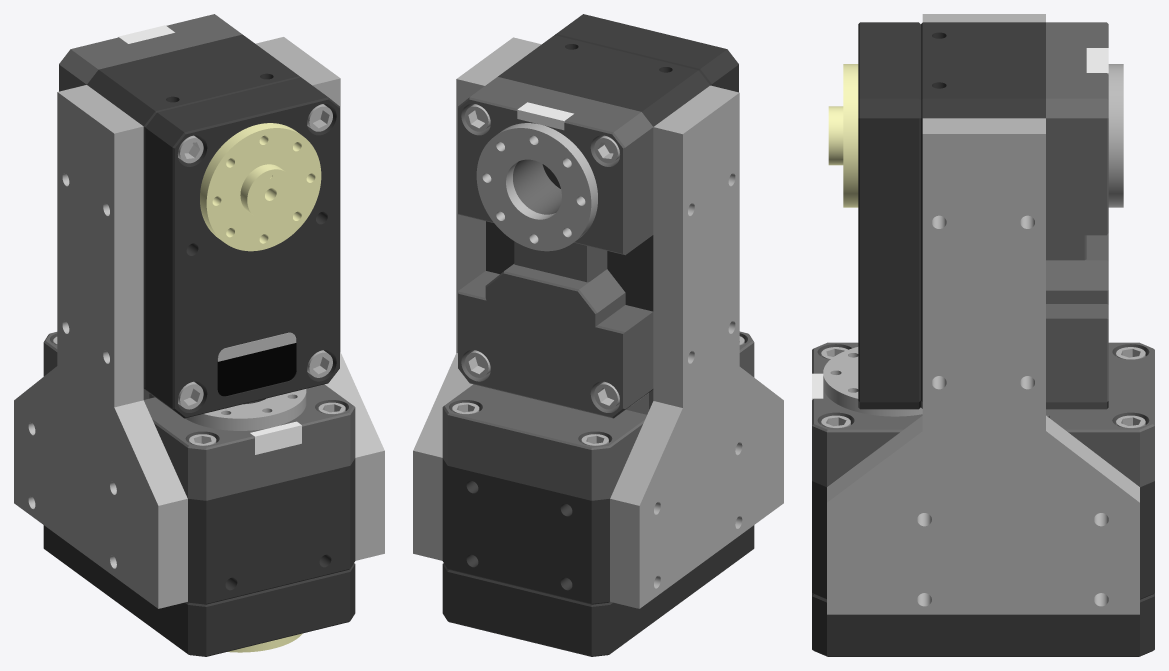
The model's file is ArmTopR.obj.
The picture shows the model from 3 angles, left to right: view 1: azimuth 30°, elevation 25°; view 2: azimuth 150°, elevation 25°; view 3: azimuth 270°, elevation 25°; orthographic projection. The views are drawn at different scales.
Visible parts, largest first — view 1: Solid1:33, Solid1:3, Solid1:31, Solid1:19, Solid1:21, Solid1, Solid1:15, Solid1:32, Solid1:5, Solid1:1, Solid1:30, Solid1:20 (+5 smaller); view 2: Solid1:33, Solid1:5, Solid1:31, Solid1:21, Solid1:15, Solid1:19, Solid1:14, Solid1:32, Solid1:3, Solid1:4, Solid1:11, Solid1:10 (+2 smaller); view 3: Solid1:32, Solid1:3, Solid1:5, Solid1:19, Solid1:21, Solid1:15, Solid1:31, Solid1, Solid1:14, Solid1:30, Solid1:33, Solid1:4.
Part boxes in pixels (<box>): Solid1:33: <box>14,85,187,608</box>; Solid1:3: <box>145,77,339,418</box>; Solid1:31: <box>188,458,355,604</box>; Solid1:19: <box>43,525,355,656</box>; Solid1:21: <box>43,332,355,500</box>; Solid1: <box>200,123,321,251</box>; Solid1:15: <box>87,34,300,395</box>; Solid1:32: <box>255,37,384,560</box>; Solid1:5: <box>59,14,242,91</box>; Solid1:1: <box>217,343,296,396</box>; Solid1:30: <box>185,389,306,430</box>; Solid1:20: <box>250,421,301,454</box>; Solid1:33: <box>610,85,783,608</box>; Solid1:5: <box>458,76,653,418</box>; Solid1:31: <box>442,458,609,604</box>; Solid1:21: <box>442,331,754,500</box>; Solid1:15: <box>486,35,709,394</box>; Solid1:19: <box>442,525,754,656</box>; Solid1:14: <box>476,123,597,251</box>; Solid1:32: <box>413,37,541,560</box>; Solid1:3: <box>555,14,738,92</box>; Solid1:4: <box>517,102,573,130</box>; Solid1:11: <box>594,381,619,409</box>; Solid1:10: <box>465,350,490,377</box>; Solid1:32: <box>827,118,1139,614</box>; Solid1:3: <box>858,22,920,409</box>; Solid1:5: <box>1046,22,1108,409</box>; Solid1:19: <box>812,593,1154,656</box>; Solid1:21: <box>812,342,1154,487</box>; Solid1:15: <box>921,22,1045,408</box>; Solid1:31: <box>812,481,1154,599</box>; Solid1: <box>828,64,858,207</box>; Solid1:14: <box>1108,64,1123,207</box>; Solid1:30: <box>823,347,922,416</box>; Solid1:33: <box>922,14,1045,22</box>; Solid1:4: <box>1086,48,1108,74</box>.
Size of the model in its own units: 0.0385 by 0.0868 by 0.0465.
